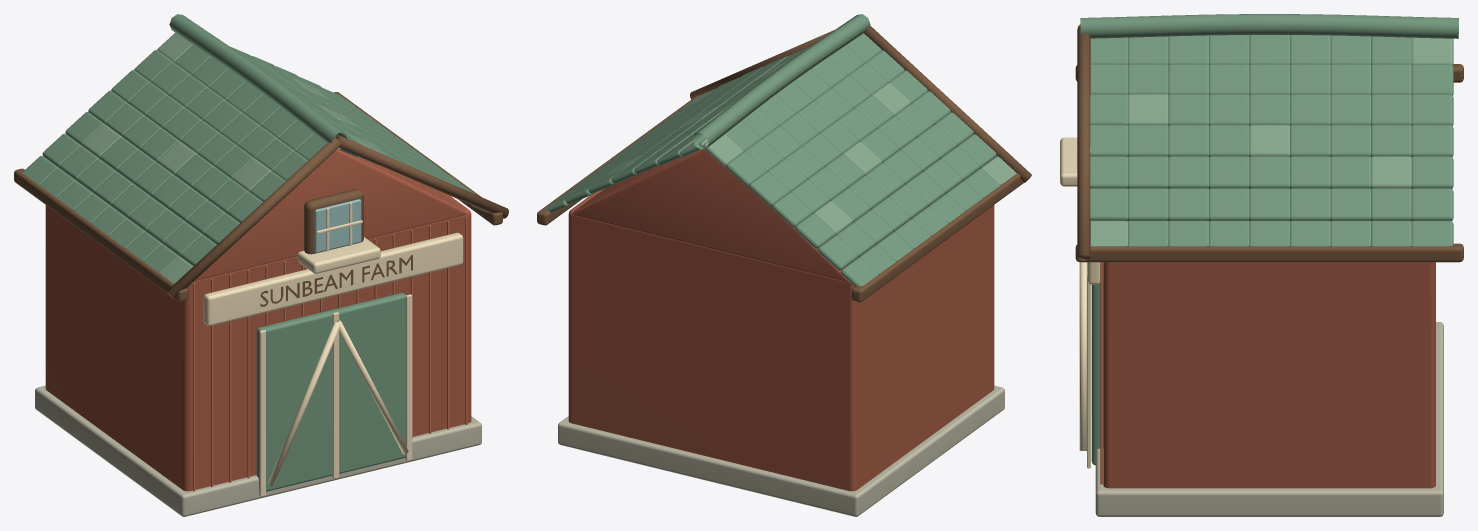
The model's file is barn.glb.
The picture shows the model from 3 angles, left to right: view 1: azimuth 30°, elevation 25°; view 2: azimuth 150°, elevation 25°; view 3: azimuth 270°, elevation 25°; orthographic projection. The views are drawn at different scales.
Parts seen in each view (by area): view 1: barn_World_Mesh; view 2: barn_World_Mesh; view 3: barn_World_Mesh.
Part boxes in pixels (box(x1,y1,x2,y2)): barn_World_Mesh: box(14, 14, 508, 516); barn_World_Mesh: box(537, 14, 1031, 516); barn_World_Mesh: box(1060, 14, 1463, 516).
Size of the model in its own units: 4.14 by 4.16 by 3.64.
